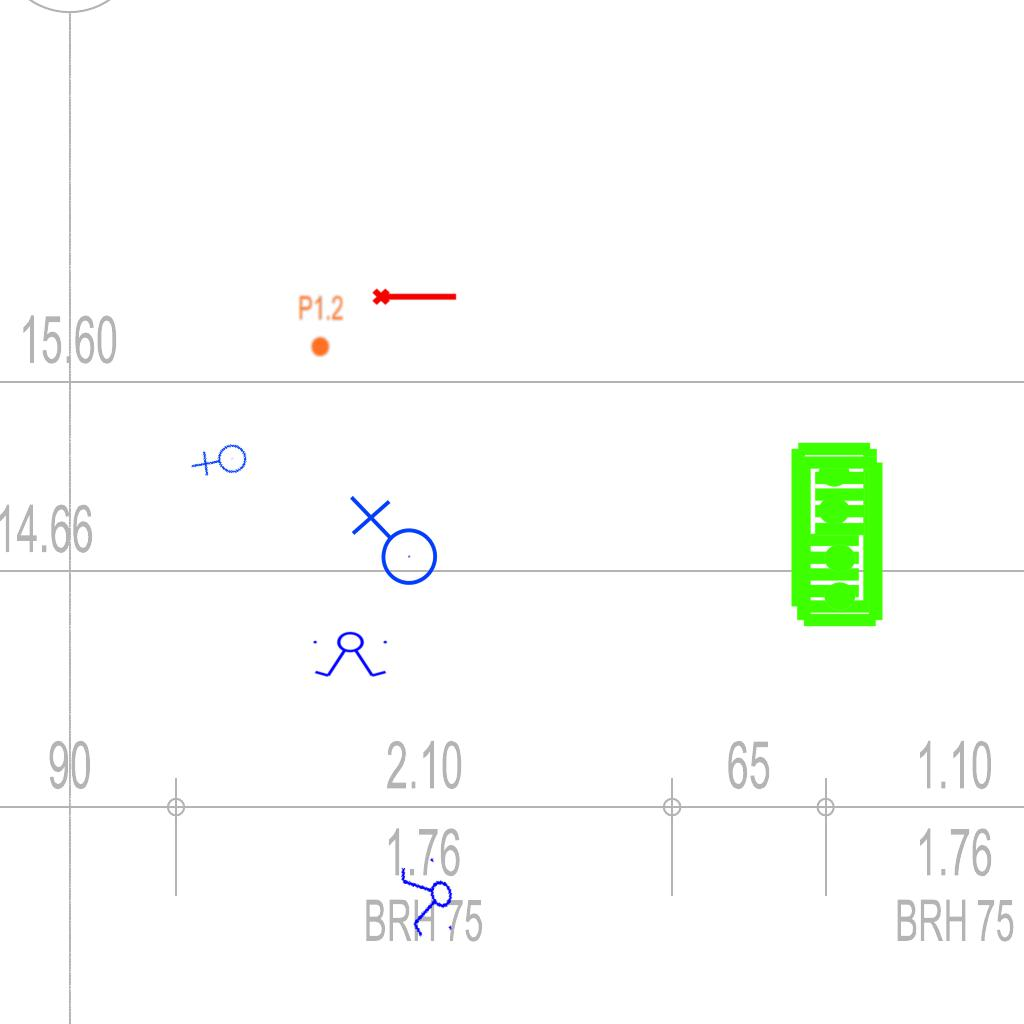ASR_Ansaugoeffnung: (371, 284, 459, 307)
Downlight_LED_Einbauleuchten_Flur: (298, 294, 344, 358)
Elektroanschluss_allgemein_230V_Geraeteanschlussdose_230V: (345, 495, 439, 594), (189, 429, 256, 496)
Gegensprechanlage_mit_Video: (785, 439, 880, 615), (794, 454, 889, 630)
Serienschalter: (394, 851, 464, 945), (309, 631, 393, 679)
